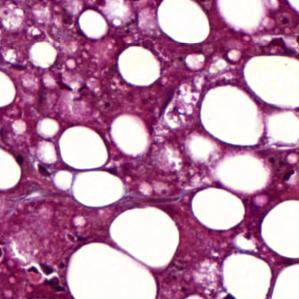steatosis: (192, 187, 244, 232), (157, 0, 209, 45), (262, 196, 299, 259), (60, 125, 109, 170), (117, 46, 161, 85), (0, 150, 23, 192), (0, 71, 16, 108)
